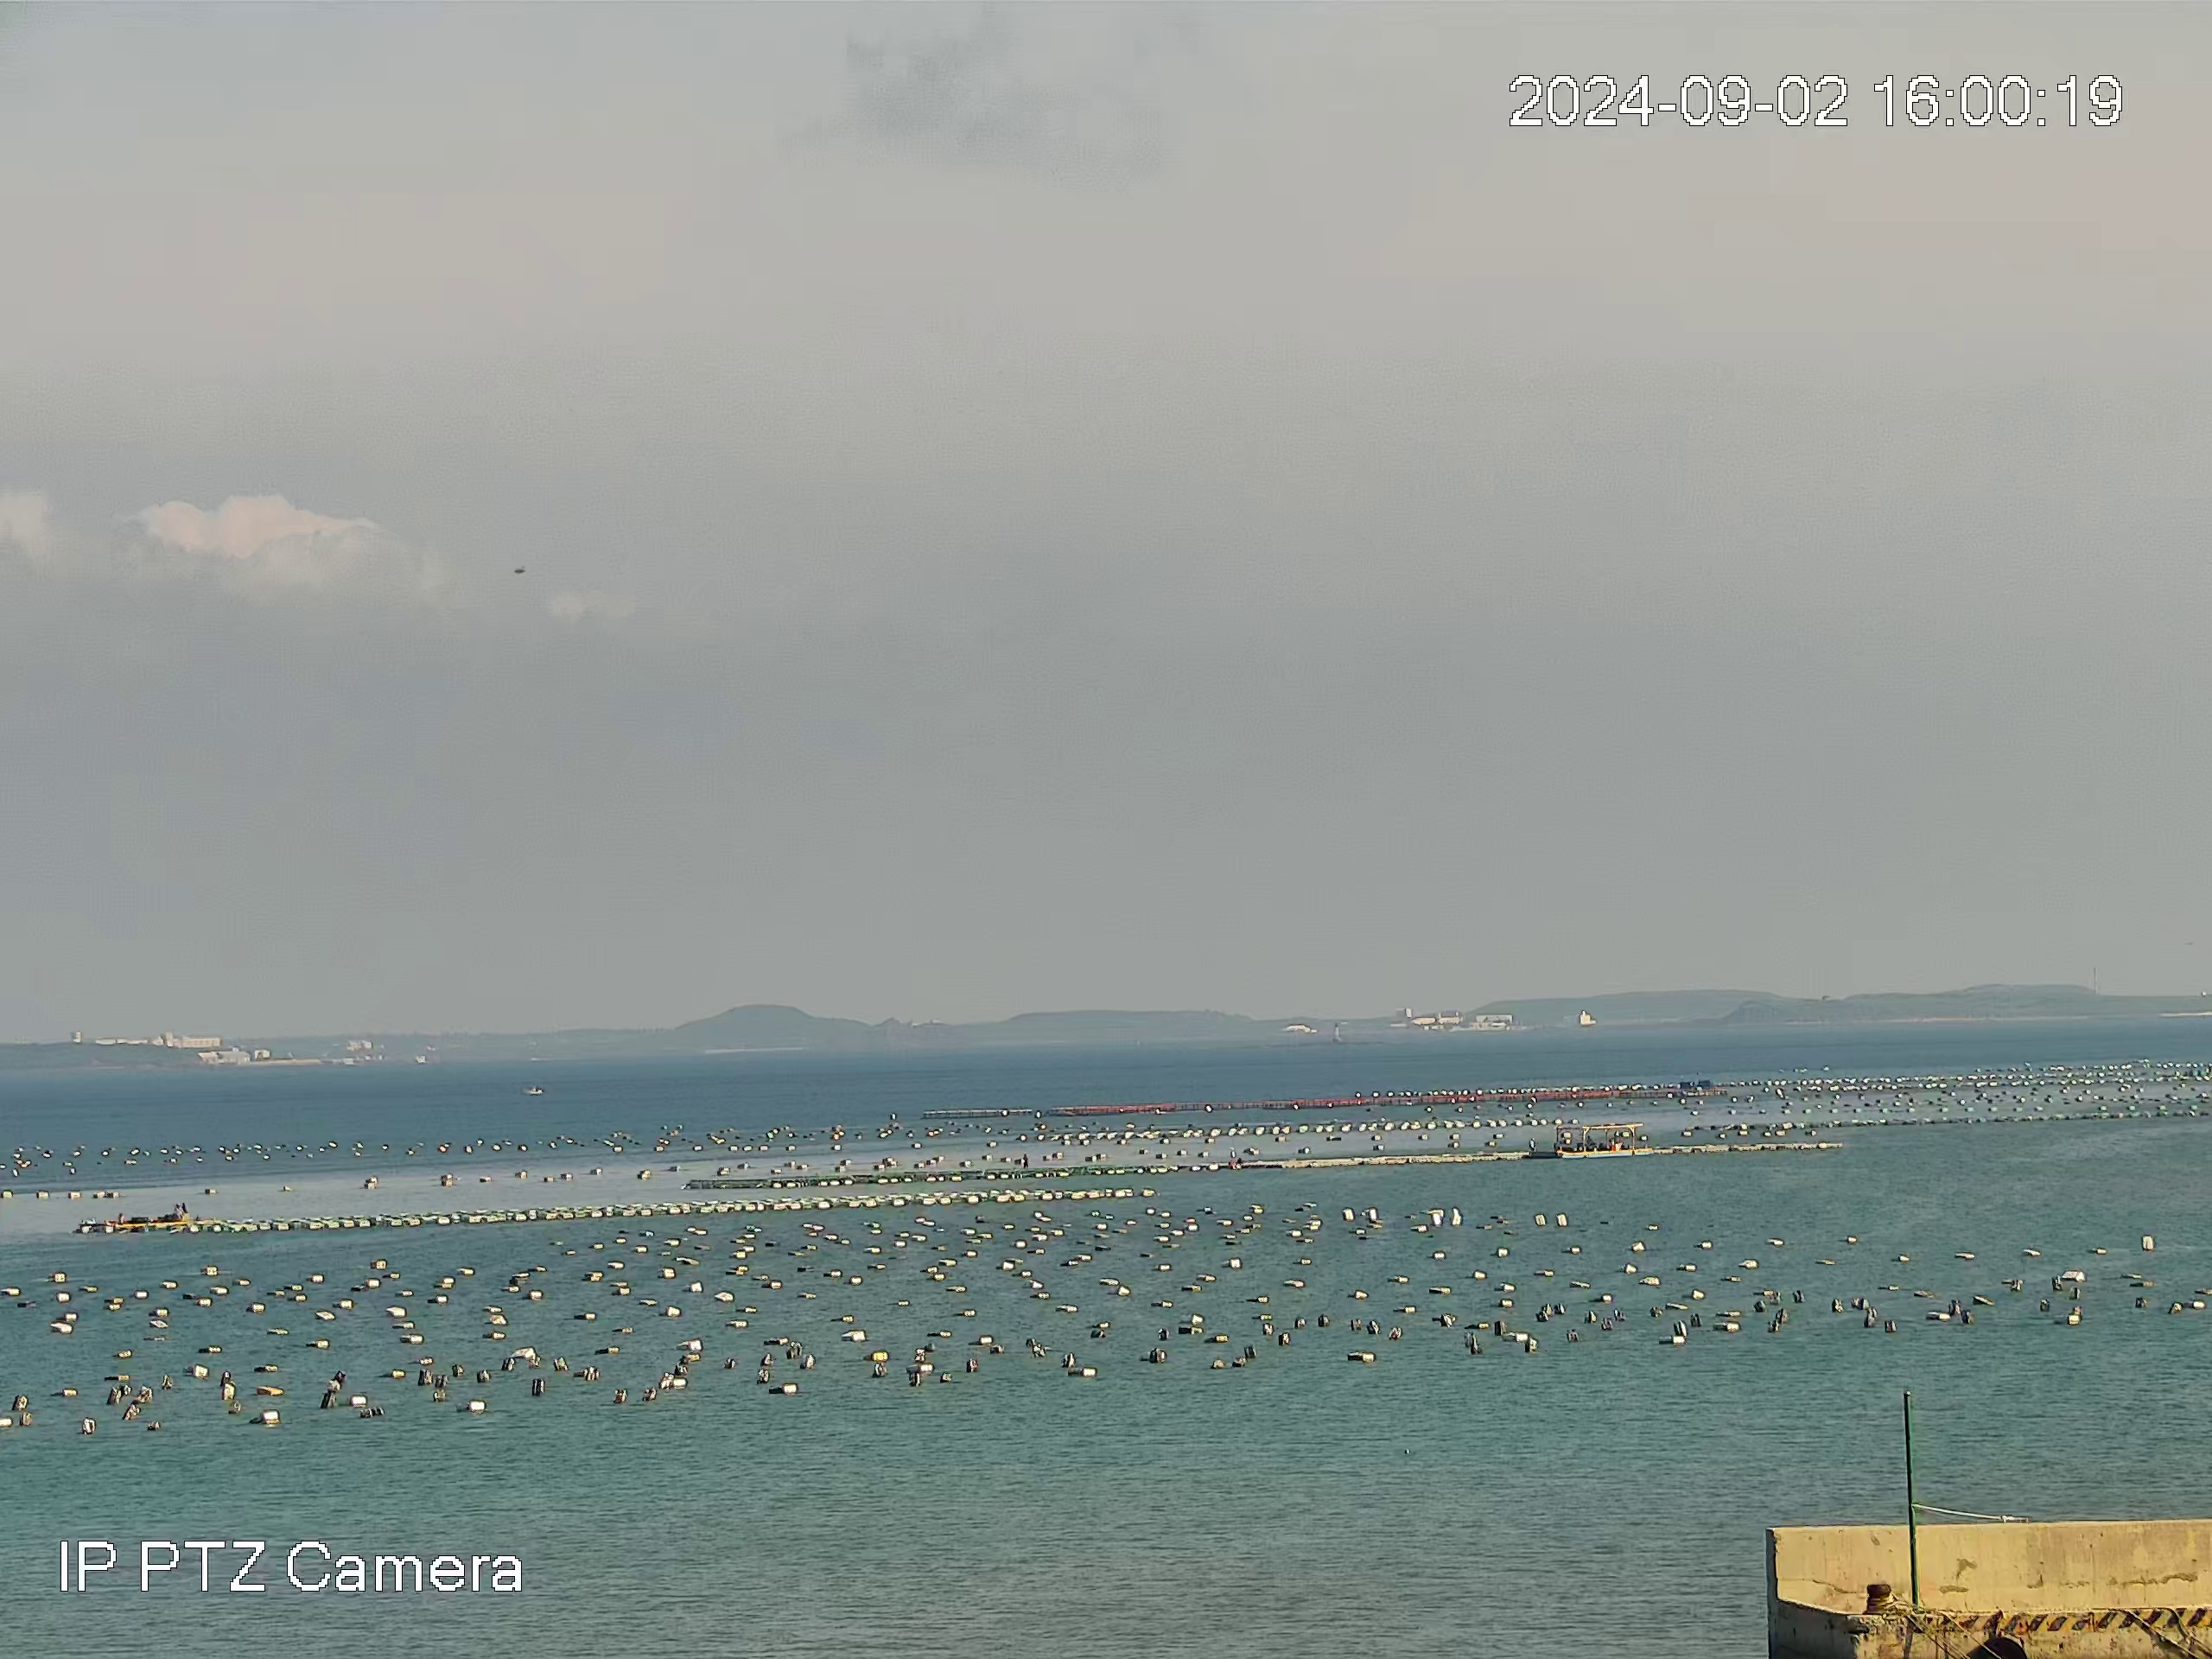boat: (1552, 1122, 1653, 1159), (103, 1201, 193, 1229), (523, 1084, 545, 1096)
